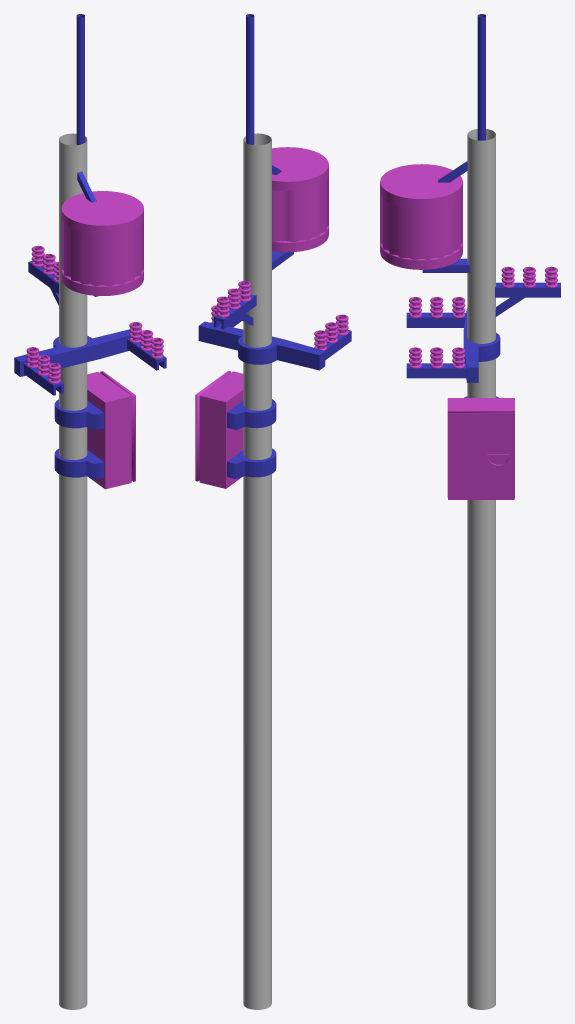
Rendered from poteau_002.fbx.
3 views of the same model, side by side, from view 1: azimuth 30°, elevation 25°; view 2: azimuth 150°, elevation 25°; view 3: azimuth 270°, elevation 25° (orthographic).
Visible parts, largest first — view 1: Cylinder_1, Cube_2_2, Cylinder, Cylinder_3, Cube_5, Cylinder_4, Cube_3, Cube_4, Cylinder_2, Cube_7, Cube_6, Cube_8; view 2: Cylinder_1, Cube_2_2, Cylinder, Cube_5, Cylinder_3, Cylinder_4, Cube_3, Cube_4, Cylinder_2, Cube_8; view 3: Cylinder_1, Cube_2_2, Cylinder, Cylinder_3, Cylinder_4, Cube_5, Cylinder_2, Cube_8, Cube_7, Cube_6.
Part boxes in pixels (bbox=[...]): Cylinder_1: bbox=[59, 133, 87, 1009]; Cube_2_2: bbox=[87, 371, 135, 489]; Cylinder: bbox=[61, 219, 143, 286]; Cylinder_3: bbox=[61, 191, 143, 234]; Cube_5: bbox=[14, 329, 130, 376]; Cylinder_4: bbox=[76, 14, 84, 144]; Cube_3: bbox=[54, 399, 103, 429]; Cube_4: bbox=[54, 448, 103, 479]; Cylinder_2: bbox=[61, 269, 143, 295]; Cube_7: bbox=[127, 338, 166, 370]; Cube_6: bbox=[24, 363, 63, 395]; Cube_8: bbox=[28, 261, 58, 293]; Cylinder_1: bbox=[243, 133, 271, 1009]; Cube_2_2: bbox=[195, 371, 243, 488]; Cylinder: bbox=[272, 175, 328, 242]; Cube_5: bbox=[198, 321, 325, 370]; Cylinder_3: bbox=[272, 147, 328, 191]; Cylinder_4: bbox=[246, 14, 254, 144]; Cube_3: bbox=[227, 399, 276, 429]; Cube_4: bbox=[227, 448, 276, 479]; Cylinder_2: bbox=[272, 226, 328, 252]; Cube_8: bbox=[213, 294, 256, 329]; Cylinder_1: bbox=[467, 129, 495, 1009]; Cube_2_2: bbox=[447, 398, 514, 499]; Cylinder: bbox=[380, 191, 462, 260]; Cylinder_3: bbox=[380, 164, 462, 208]; Cylinder_4: bbox=[477, 14, 485, 140]; Cube_5: bbox=[463, 308, 500, 382]; Cylinder_2: bbox=[380, 243, 462, 269]; Cube_8: bbox=[495, 282, 560, 297]; Cube_7: bbox=[406, 363, 466, 378]; Cube_6: bbox=[406, 312, 465, 327].
Size of the model in its own units: 139 by 1081 by 178.
